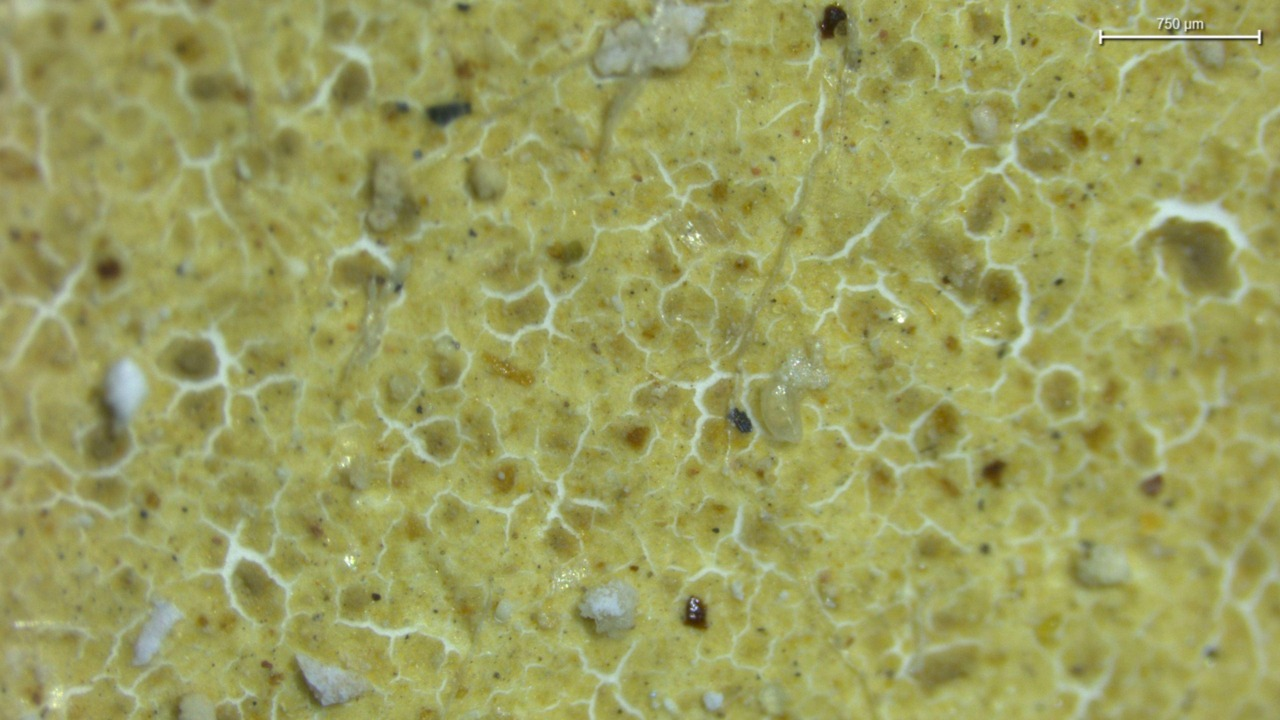microplastic_fragment: (592, 0, 705, 77), (296, 654, 368, 706), (577, 580, 638, 636), (104, 358, 147, 430)
